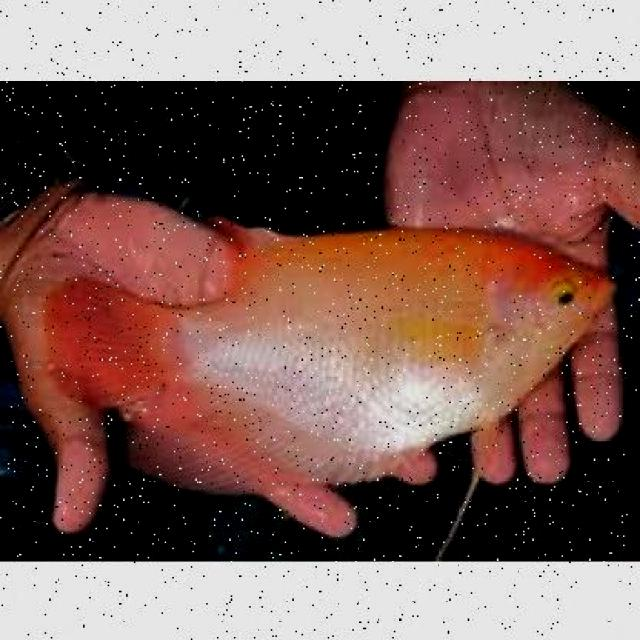gurame: (96, 220, 618, 478)
